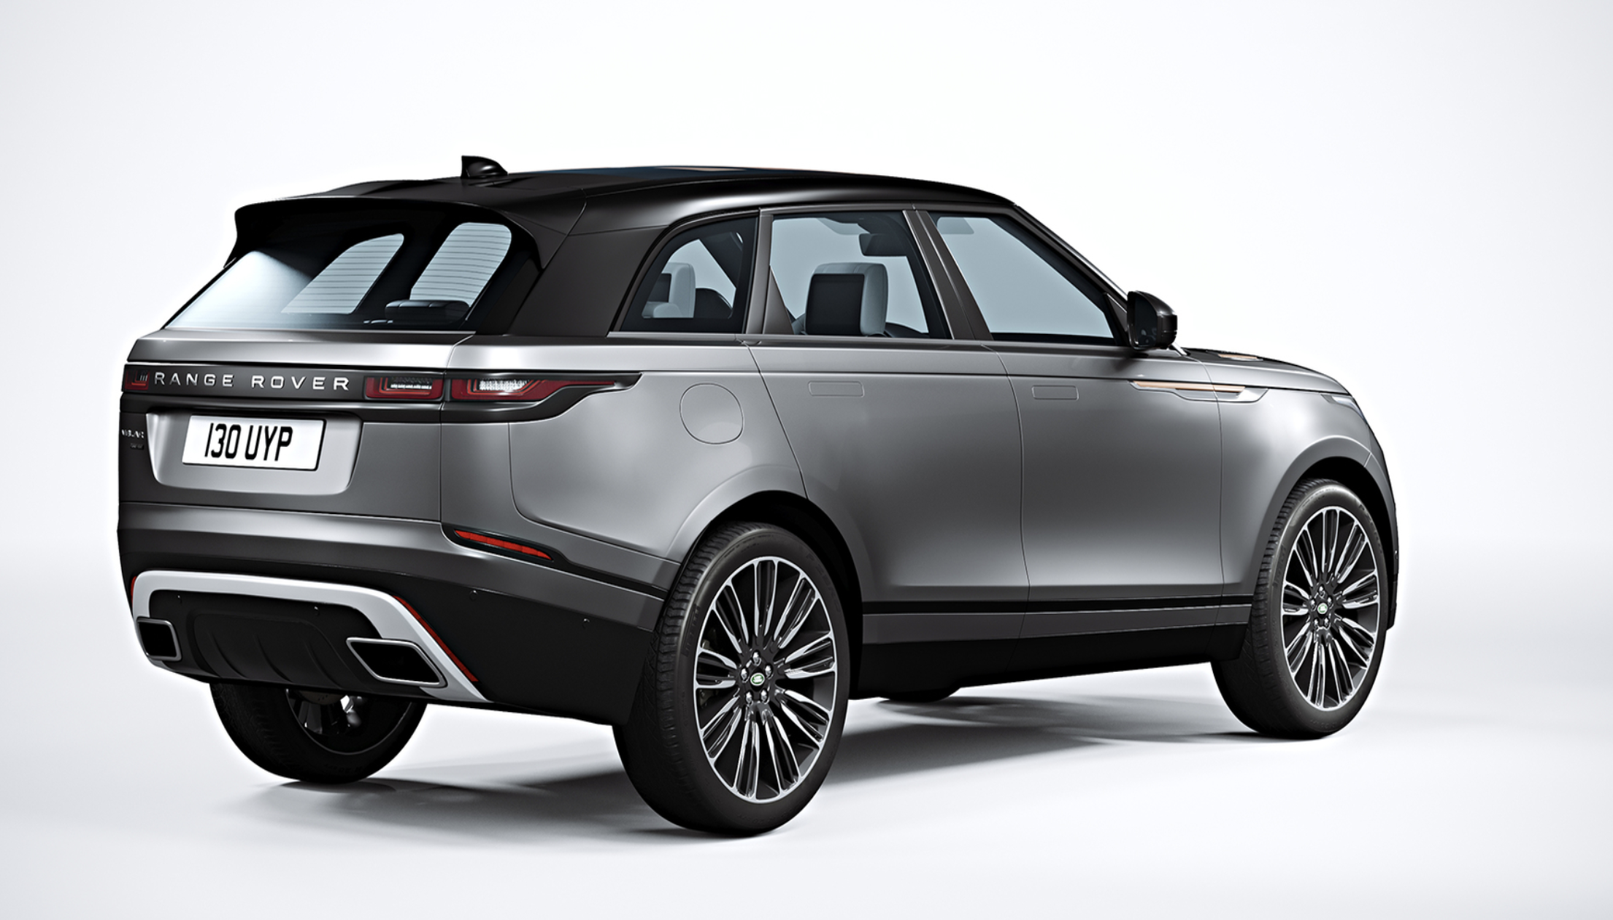hatch: (674, 380, 749, 451)
